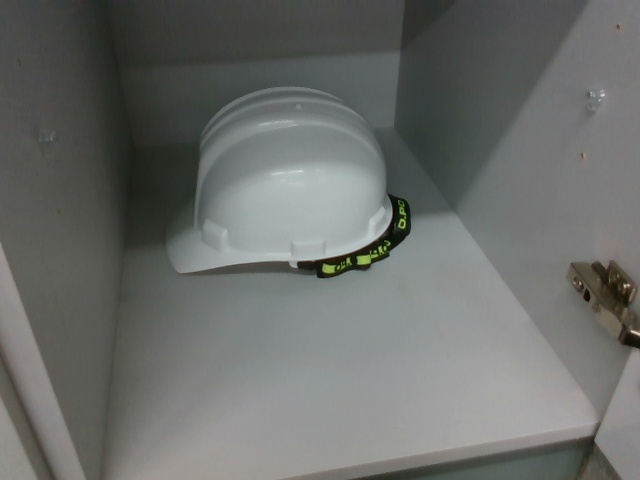helmet: (156, 85, 410, 271)
